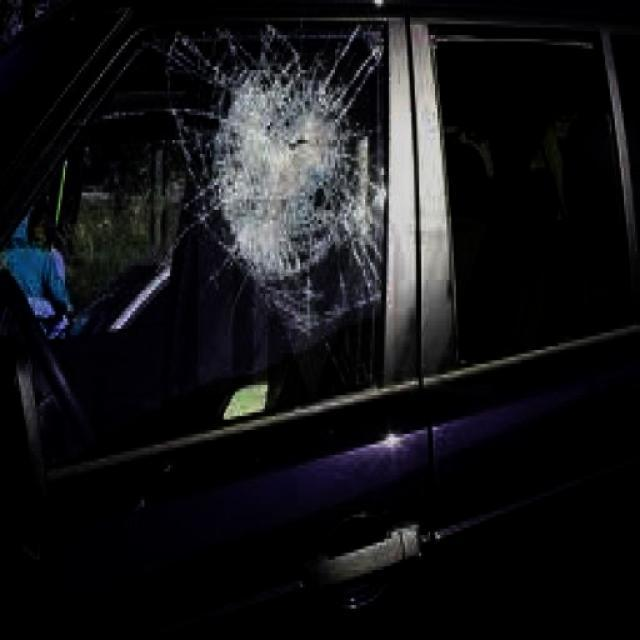car damage: (162, 24, 384, 336)
